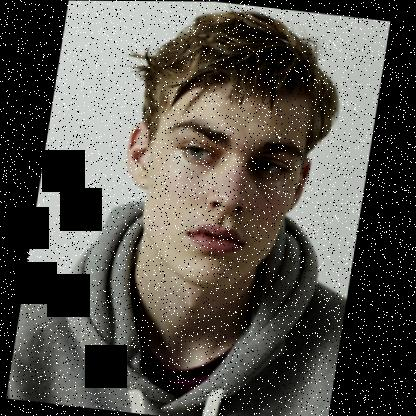Male: (111, 72, 322, 296)
